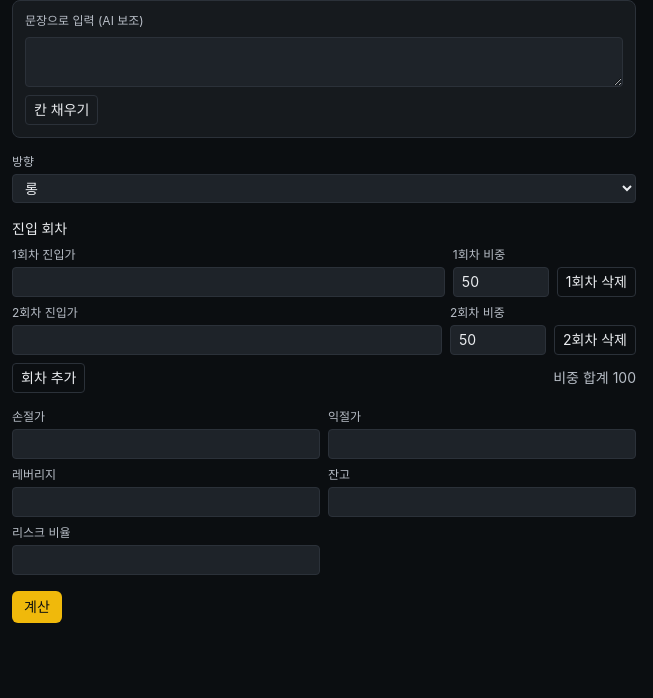
it: 포지션 계획 계산기 › 비중 합계는 보여 주되 유효한지는 말하지 않는다
The width and height of the screenshot is (653, 698).
expect the text "비중 합계 100" is shown: met, box [553,368,636,388]
Click the button "회차 추가".
click(49, 378)  # box [12,363,86,393]
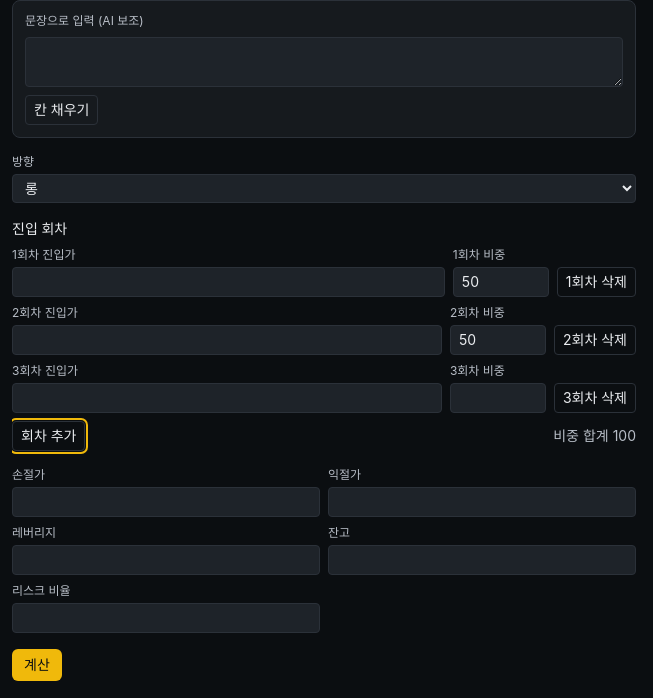
Type "30" into the number field labelled "3회차 비중".
click(498, 398); type("30")  # box [450,383,546,413]
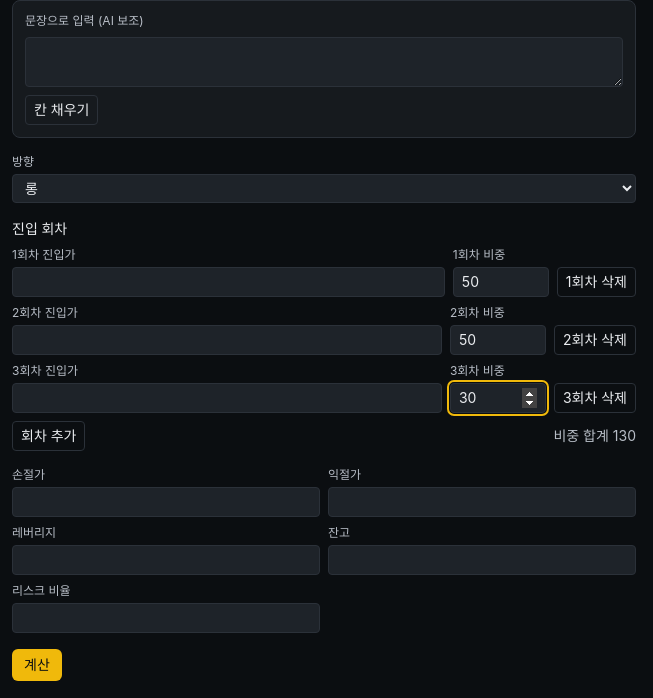
expect the text "비중 합계 130" is shown: met, box [553,426,636,446]
